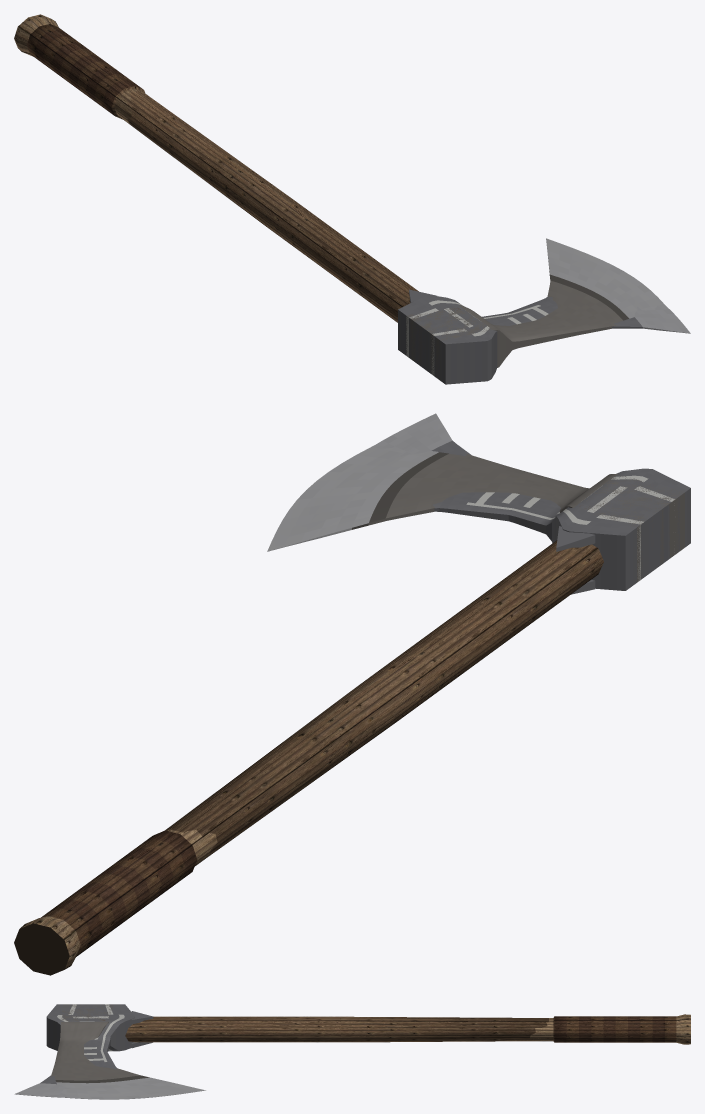
The model's file is kirveet.glb.
The picture shows the model from 3 angles, top to bottom: view 1: azimuth 30°, elevation 25°; view 2: azimuth 150°, elevation 25°; view 3: azimuth 270°, elevation 25°; orthographic projection. The views are drawn at different scales.
Visible parts, largest first — view 1: kirves_karjala, kirves_parta; view 2: kirves_karjala, kirves_parta; view 3: kirves_karjala, kirves_parta.
Part boxes in pixels (x1,y1,x2,y2): kirves_karjala: (26,24,690,384); kirves_parta: (14,14,664,380); kirves_karjala: (41,413,690,956); kirves_parta: (14,445,684,975); kirves_karjala: (14,1004,676,1097); kirves_parta: (51,1004,690,1099).
Bounding box in the file's own units: 0.2096 × 0.035 × 0.743.
2 materials, 2 textured.
